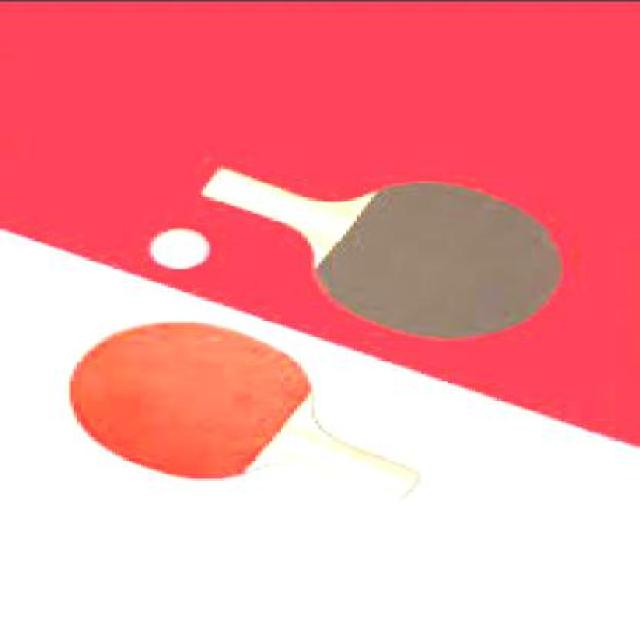table_tennis_racket: (309, 171, 568, 344), (66, 312, 314, 490)
